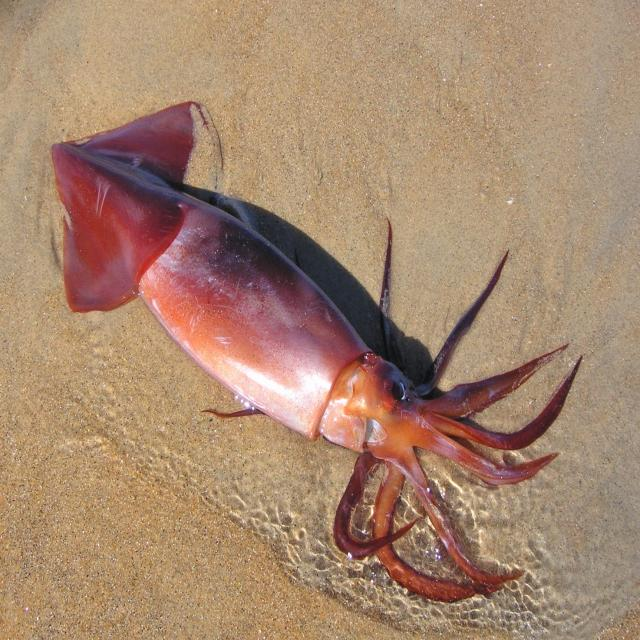SQUID: (37, 86, 586, 588)
